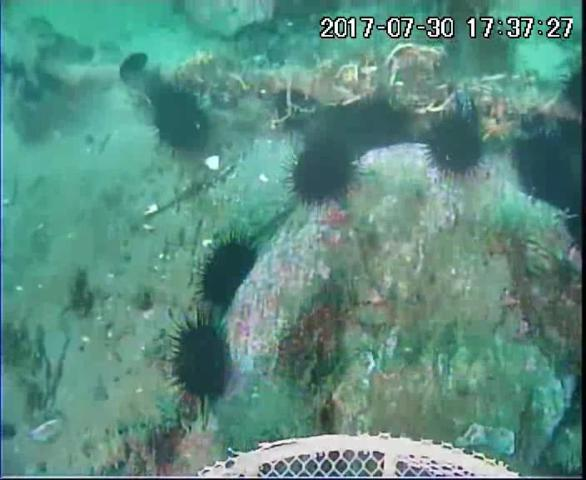echinus: (157, 308, 239, 407), (516, 129, 586, 209), (198, 235, 259, 314), (292, 141, 359, 207), (426, 111, 487, 181), (333, 98, 413, 149), (157, 88, 213, 155), (562, 70, 586, 116)
holothurian: (84, 419, 158, 477)
